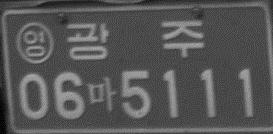0: (17, 72, 49, 121)
1: (231, 68, 264, 118), (194, 68, 226, 117), (156, 69, 187, 119)
5: (120, 69, 151, 119)
6: (52, 70, 86, 120)
광주_D: (65, 20, 204, 60)
마: (88, 76, 116, 112)
영: (15, 21, 54, 65)
